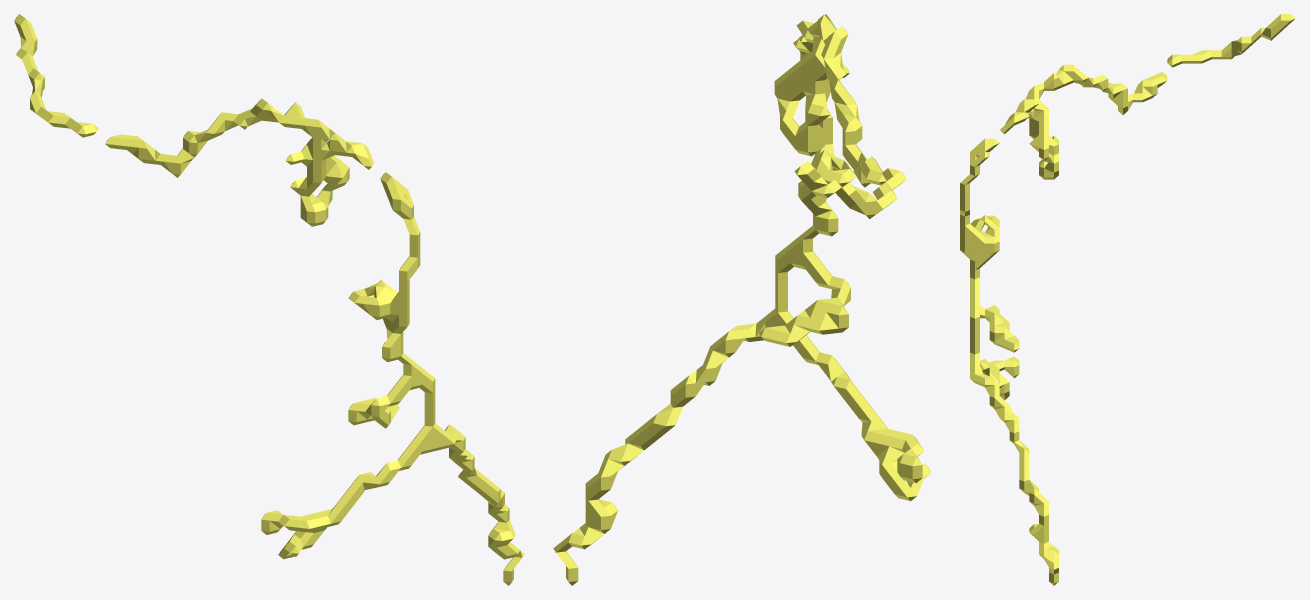
File: VFB_001000q2.glb
The picture shows the model from 3 angles, left to right: view 1: azimuth 30°, elevation 25°; view 2: azimuth 150°, elevation 25°; view 3: azimuth 270°, elevation 25°; orthographic projection. The views are drawn at different scales.
Visible parts, largest first — view 1: VFB_001000q2; view 2: VFB_001000q2; view 3: VFB_001000q2.
Part boxes in pixels (left/top/right/bottom): VFB_001000q2: left=14, top=14, right=524, bottom=585; VFB_001000q2: left=553, top=14, right=931, bottom=585; VFB_001000q2: left=960, top=14, right=1295, bottom=585.
Bounding box in the file's own units: 0.036 × 0.049 × 0.034.
